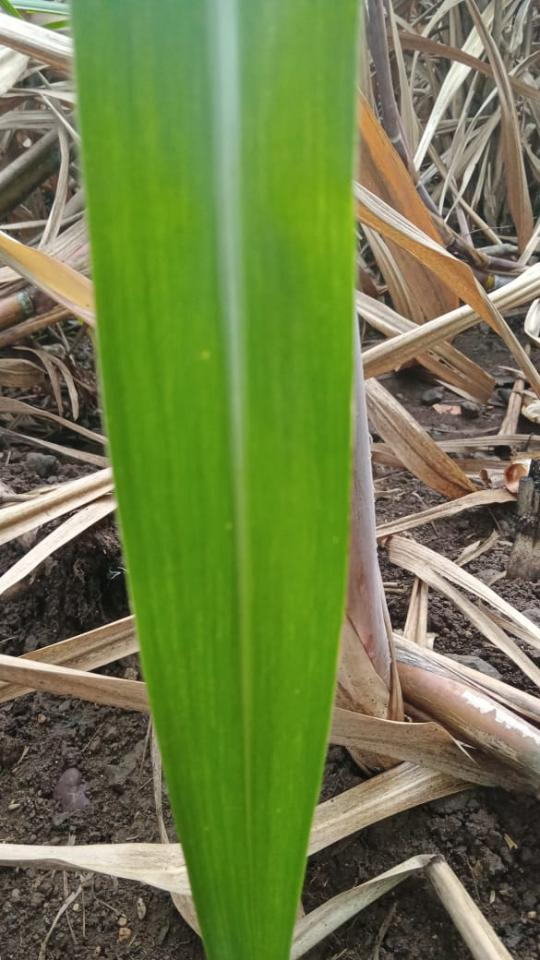Healthy: (71, 0, 353, 959)
